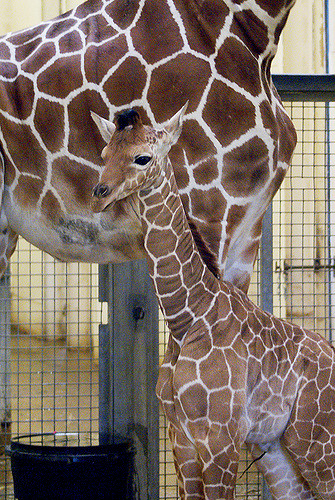giraffe: (93, 123, 323, 479)
